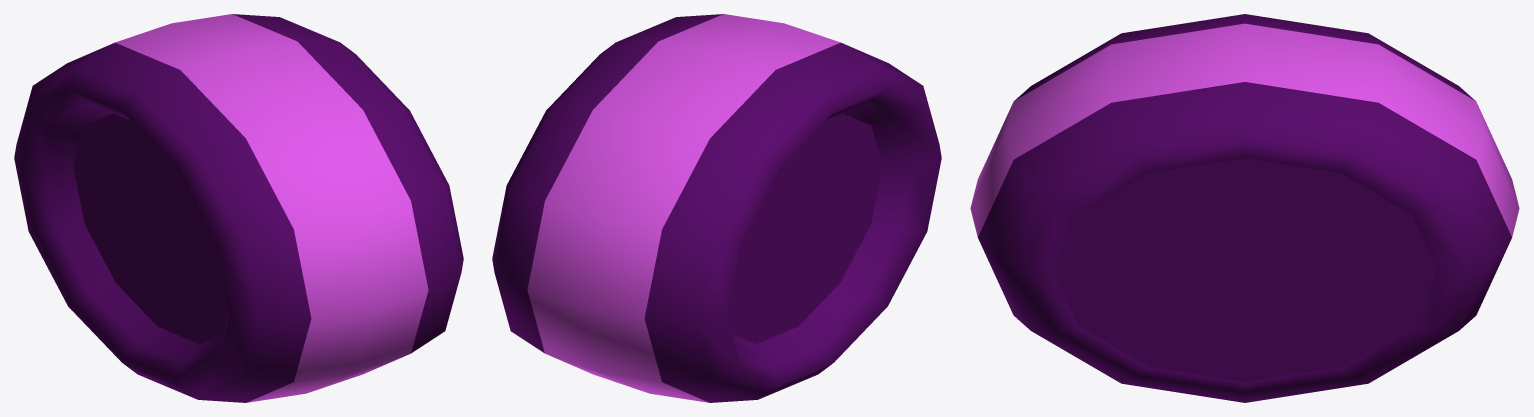
File: NLS_DUO Sleeve (Hand).fbx
3 views of the same model, side by side, from view 1: azimuth 30°, elevation 25°; view 2: azimuth 150°, elevation 25°; view 3: azimuth 270°, elevation 25° (orthographic).
Parts seen in each view (by area): view 1: NLS_DUO Sleeve (Hand) 2; view 2: NLS_DUO Sleeve (Hand) 2; view 3: NLS_DUO Sleeve (Hand) 2.
Part boxes in pixels (x1,y1,x2,y2): NLS_DUO Sleeve (Hand) 2: [14, 14, 463, 402]; NLS_DUO Sleeve (Hand) 2: [492, 14, 941, 402]; NLS_DUO Sleeve (Hand) 2: [970, 14, 1519, 402].
Bounding box in the file's own units: 8.93 × 11.1 × 17.26.
